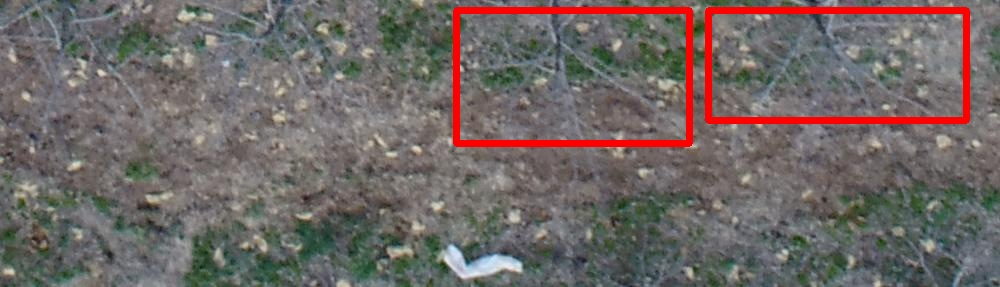apple: (456, 10, 689, 143), (708, 10, 966, 120)
